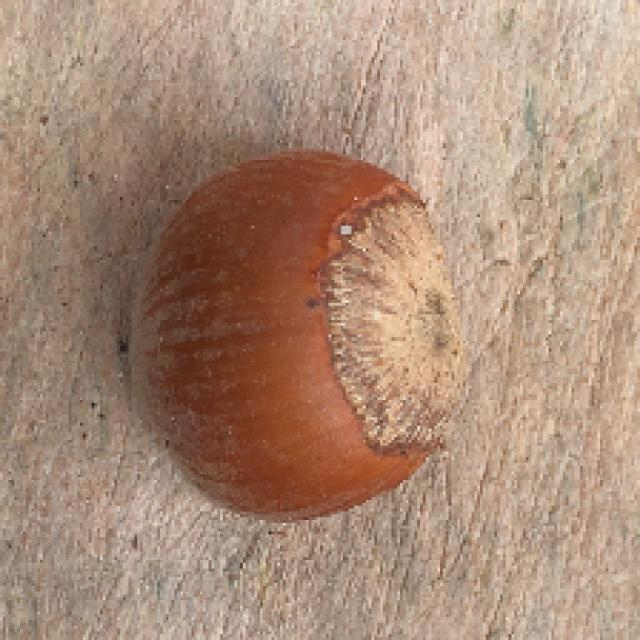qualityHazelnut: (125, 152, 463, 522)
